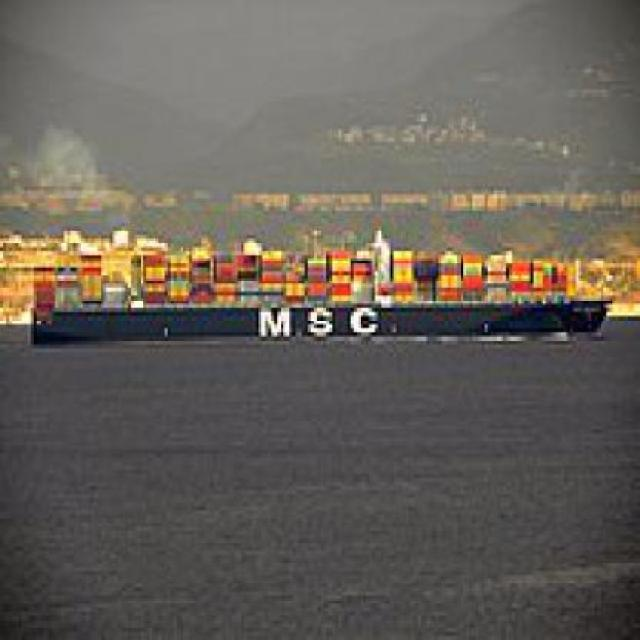container: (25, 224, 620, 358)
